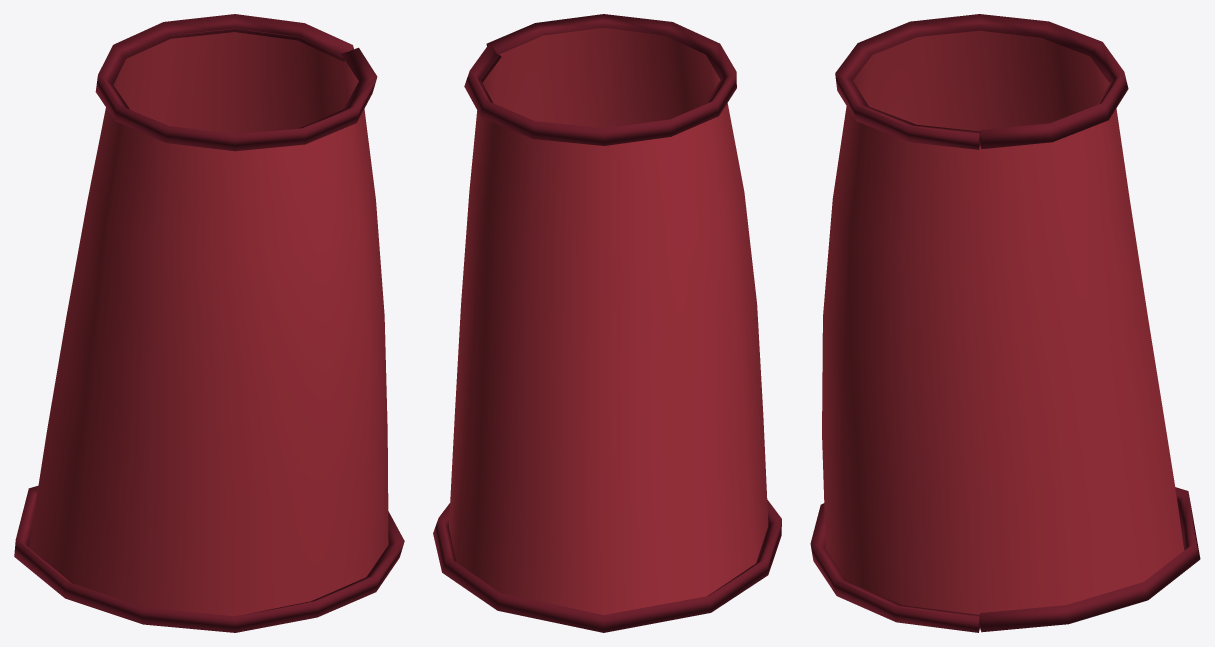
Rendered from crimtane_armor_cuisse.R.glb.
The picture shows the model from 3 angles, left to right: view 1: azimuth 30°, elevation 25°; view 2: azimuth 150°, elevation 25°; view 3: azimuth 270°, elevation 25°; orthographic projection. The views are drawn at different scales.
Parts seen in each view (by area): view 1: crimtane_armor_cuisse.R; view 2: crimtane_armor_cuisse.R; view 3: crimtane_armor_cuisse.R.
Boxes of the visible parts, x1=… form: crimtane_armor_cuisse.R: x1=14, y1=14, x2=404, y2=632; crimtane_armor_cuisse.R: x1=433, y1=14, x2=781, y2=632; crimtane_armor_cuisse.R: x1=810, y1=14, x2=1200, y2=632.
Size of the model in its own units: 0.2669 by 0.3856 by 0.2783.
